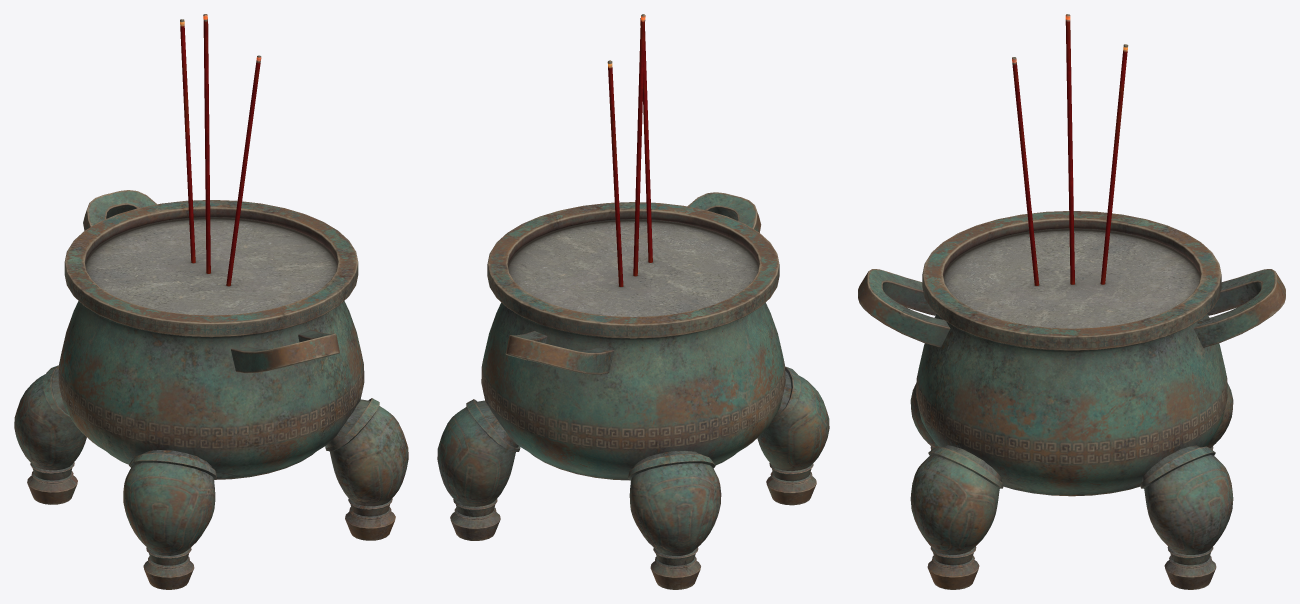
Rendered from chinese_incense_burner-lowpory-material_test.glb.
3 views of the same model, side by side, from view 1: azimuth 30°, elevation 25°; view 2: azimuth 150°, elevation 25°; view 3: azimuth 270°, elevation 25° (orthographic). The views are drawn at different scales.
Parts seen in each view (by area): view 1: guo_low, jiao_low, hui_low, bashou_low, xiang_low; view 2: guo_low, jiao_low, hui_low, bashou_low, xiang_low; view 3: guo_low, jiao_low, hui_low, bashou_low, xiang_low.
Part boxes in pixels (box(x1,y1,x2,y2)): guo_low: box(58, 200, 364, 479); jiao_low: box(14, 365, 408, 589); hui_low: box(85, 217, 337, 315); bashou_low: box(83, 190, 339, 373); xiang_low: box(180, 14, 261, 286); guo_low: box(481, 202, 785, 480); jiao_low: box(437, 366, 829, 589); hui_low: box(508, 219, 758, 316); bashou_low: box(505, 192, 761, 374); xiang_low: box(607, 14, 652, 286); guo_low: box(916, 211, 1227, 496); jiao_low: box(910, 382, 1233, 589); hui_low: box(943, 229, 1200, 328); bashou_low: box(858, 269, 1285, 347); xiang_low: box(1012, 14, 1128, 285).
Bounding box in the file's own units: 0.0198 × 0.0348 × 0.0263.
Materials: 1 (1 with a texture image).
